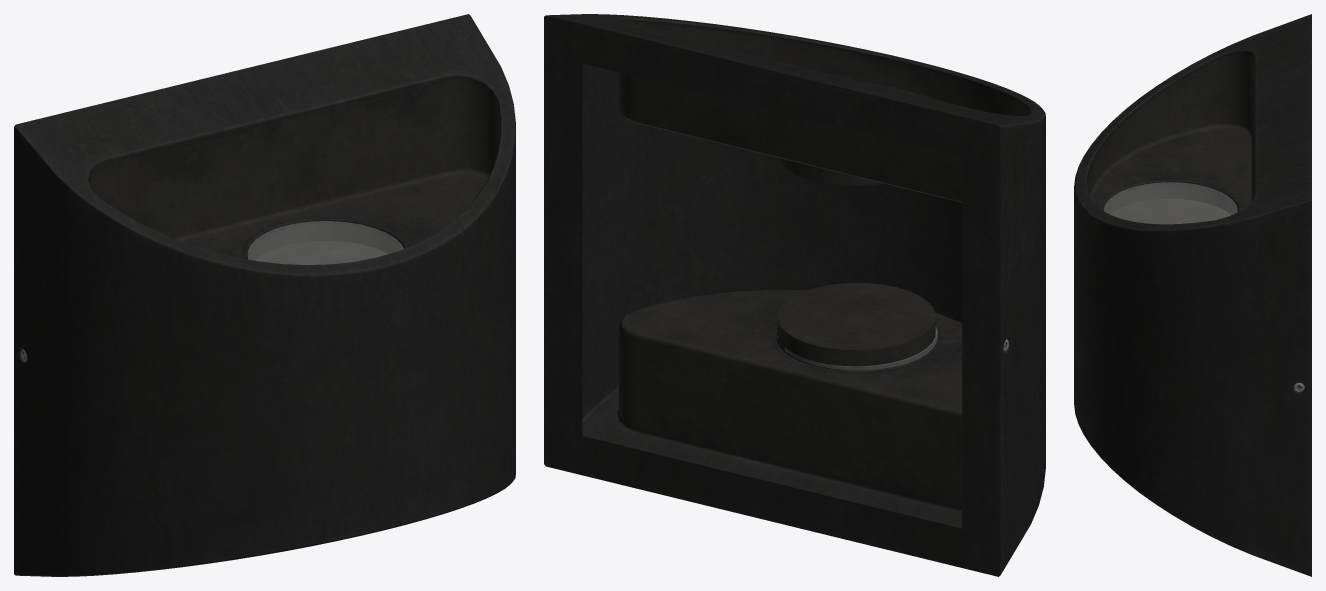
The model's file is modern-sconce.glb.
The picture shows the model from 3 angles, left to right: view 1: azimuth 30°, elevation 25°; view 2: azimuth 150°, elevation 25°; view 3: azimuth 270°, elevation 25°; orthographic projection. The views are drawn at different scales.
Visible parts, largest first — view 1: Lampa, Glass; view 2: Lampa, Glass; view 3: Lampa, Glass.
Part boxes in pixels (x1=…): Lampa: x1=14, y1=14, x2=515, y2=576; Glass: x1=248, y1=221, x2=403, y2=264; Lampa: x1=544, y1=14, x2=1045, y2=576; Glass: x1=777, y1=328, x2=937, y2=369; Lampa: x1=1074, y1=14, x2=1311, y2=576; Glass: x1=1104, y1=182, x2=1237, y2=223.
Bounding box in the file's own units: 0.195 × 0.1842 × 0.105.
2 materials, 1 textured.
